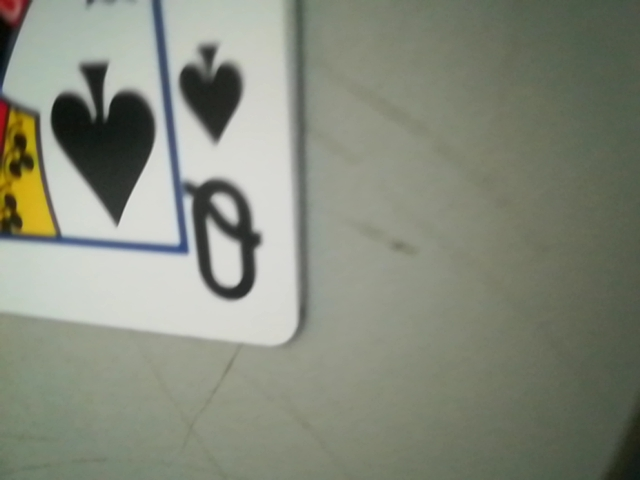ht q: (161, 24, 264, 325)
